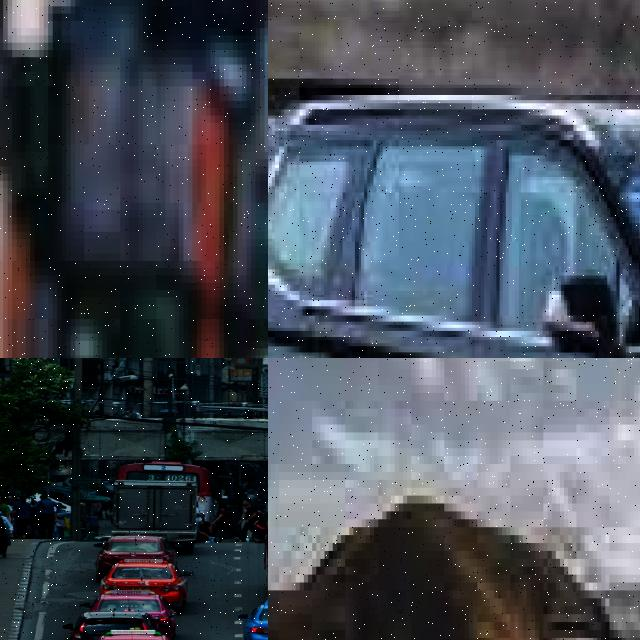bike: (514, 401, 640, 640)
car: (268, 1, 640, 358), (71, 590, 175, 640), (100, 533, 191, 589), (97, 557, 186, 614), (89, 580, 182, 632), (73, 627, 172, 640), (243, 596, 268, 640)
